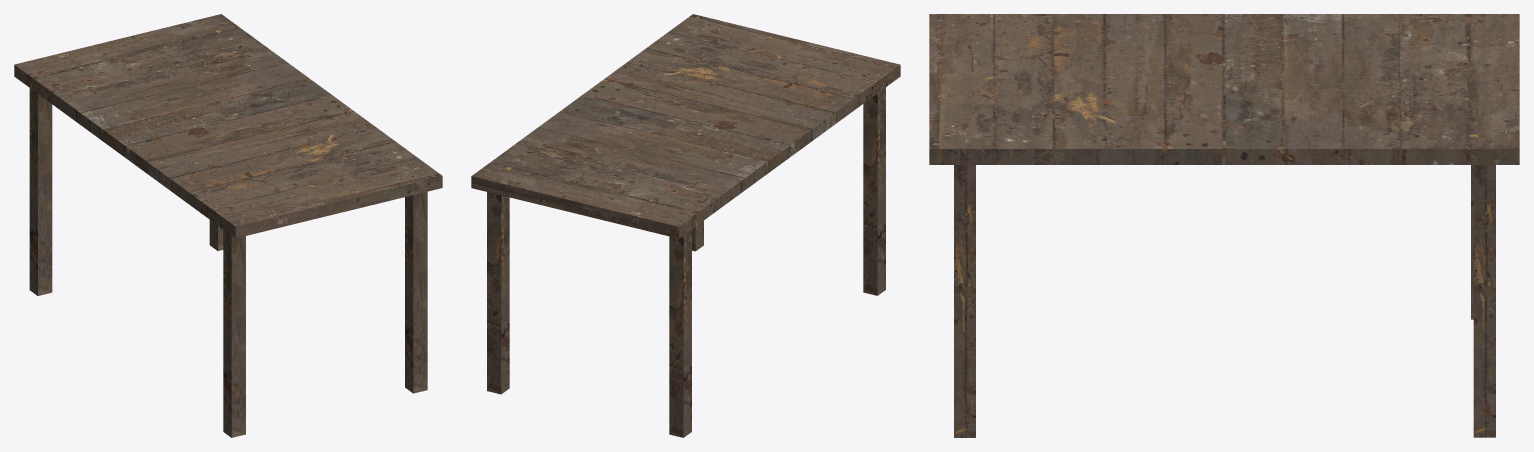
File: tabel.fbx
3 renders of one model, left to right at view 1: azimuth 30°, elevation 25°; view 2: azimuth 150°, elevation 25°; view 3: azimuth 270°, elevation 25°, orthographic. The views are drawn at different scales.
Parts seen in each view (by area): view 1: tabel; view 2: tabel; view 3: tabel.
Boxes of the visible parts, box(x1,y1,x2,y2) form: tabel: box(14, 14, 442, 437); tabel: box(471, 14, 900, 437); tabel: box(929, 14, 1519, 437).
Bounding box in the file's own units: 110 × 111 × 203.
